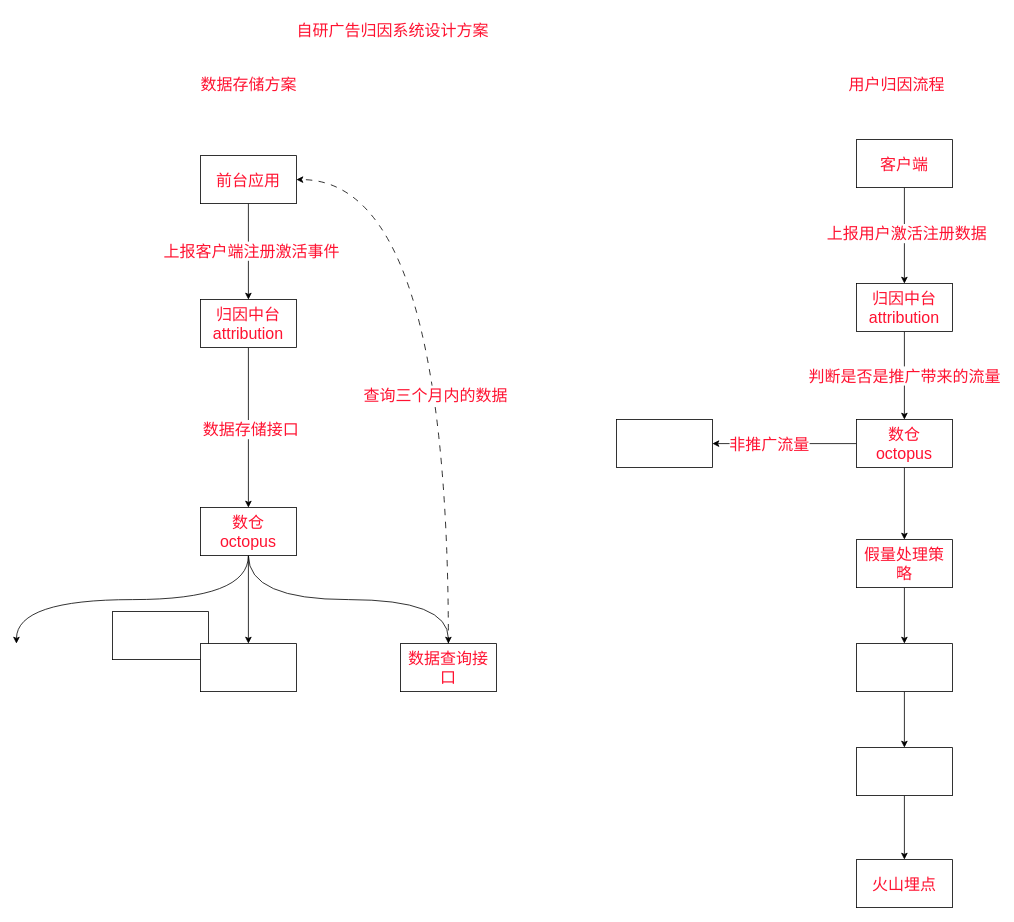
This 1014x922 diagram has some shape labels left out. The centre of each missing label's shape, as x and y in pixels:
"redis 缓存该条数据分区键" goes at (160,635).
"return" goes at (664,443).
"媒体数据回传策略" goes at (904,771).
"根据分区键存储到cassandra" goes at (248,667).
"设备过滤策略" goes at (904,667).
